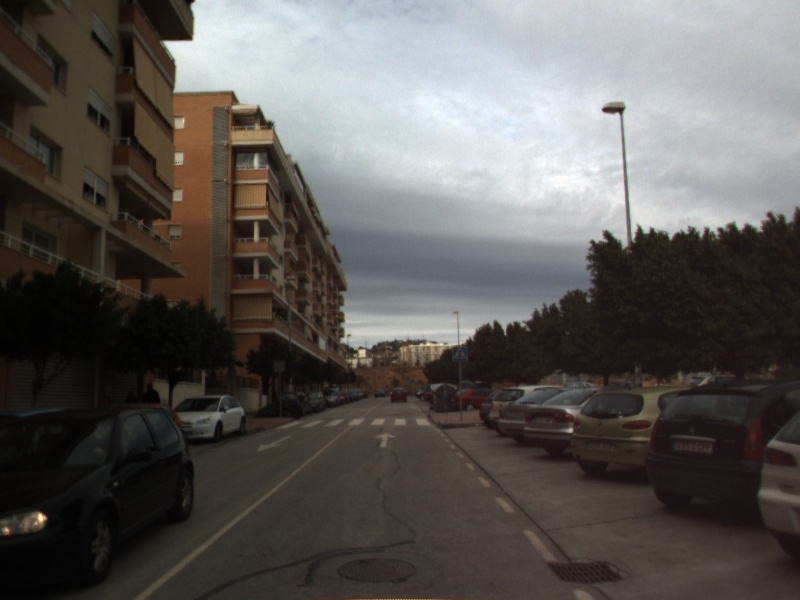STRAIGHT: (373, 430, 398, 449)
